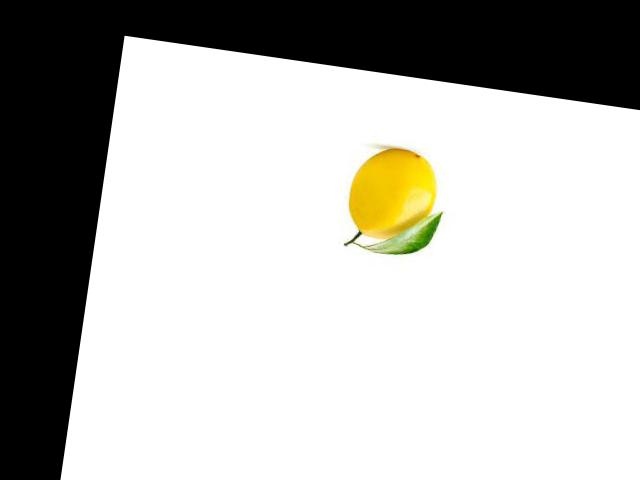lemon: (336, 134, 447, 254)
